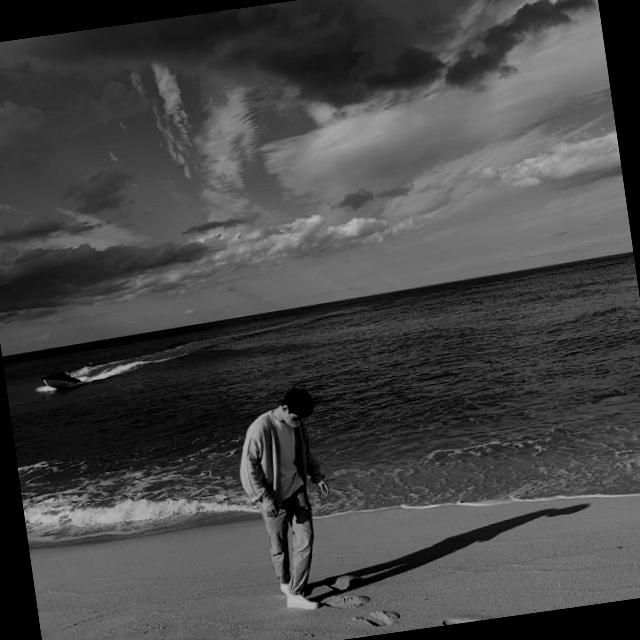cardigan: (232, 406, 328, 514)
cottonpants: (256, 483, 324, 599)
